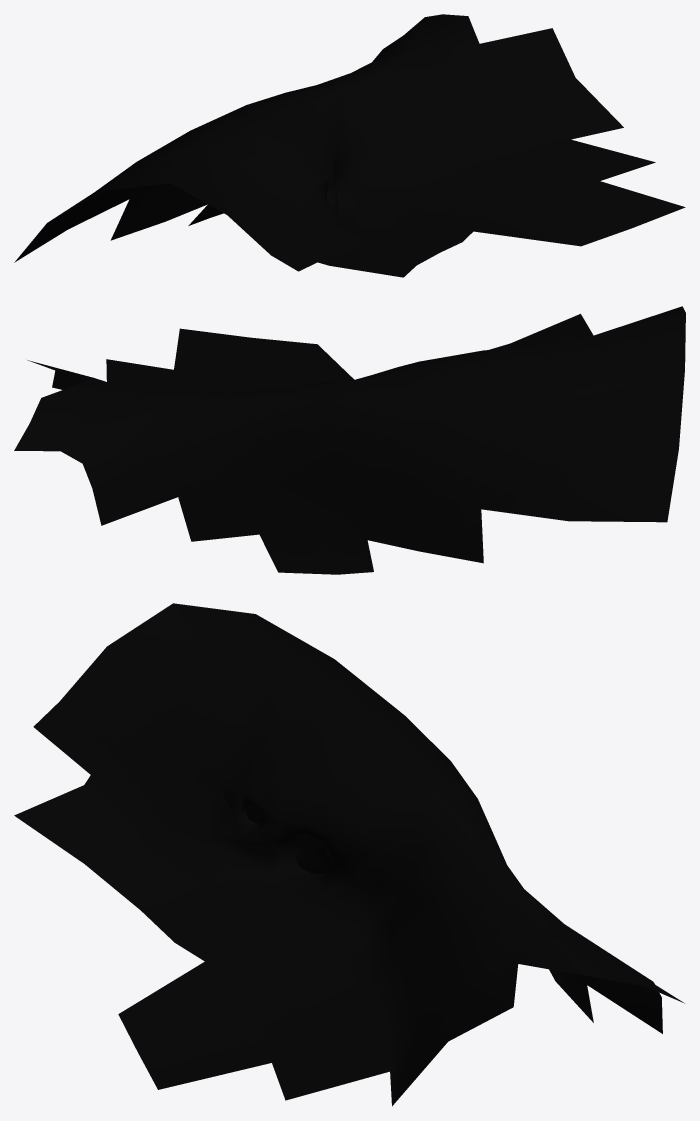
File: HTOWN01_TREESHADOWS10.fbx
The picture shows the model from 3 angles, top to bottom: view 1: azimuth 30°, elevation 25°; view 2: azimuth 150°, elevation 25°; view 3: azimuth 270°, elevation 25°; orthographic projection. The views are drawn at different scales.
Parts seen in each view (by area): view 1: HTOWN01_TREESHADOWS10; view 2: HTOWN01_TREESHADOWS10; view 3: HTOWN01_TREESHADOWS10.
Boxes of the visible parts, x1,y1,x2,y2 form: HTOWN01_TREESHADOWS10: (14,14,685,277); HTOWN01_TREESHADOWS10: (14,306,685,574); HTOWN01_TREESHADOWS10: (14,603,684,1106).
Bounding box in the file's own units: 347194 × 107976 × 266842.
Materials: 1 (1 with a texture image).
